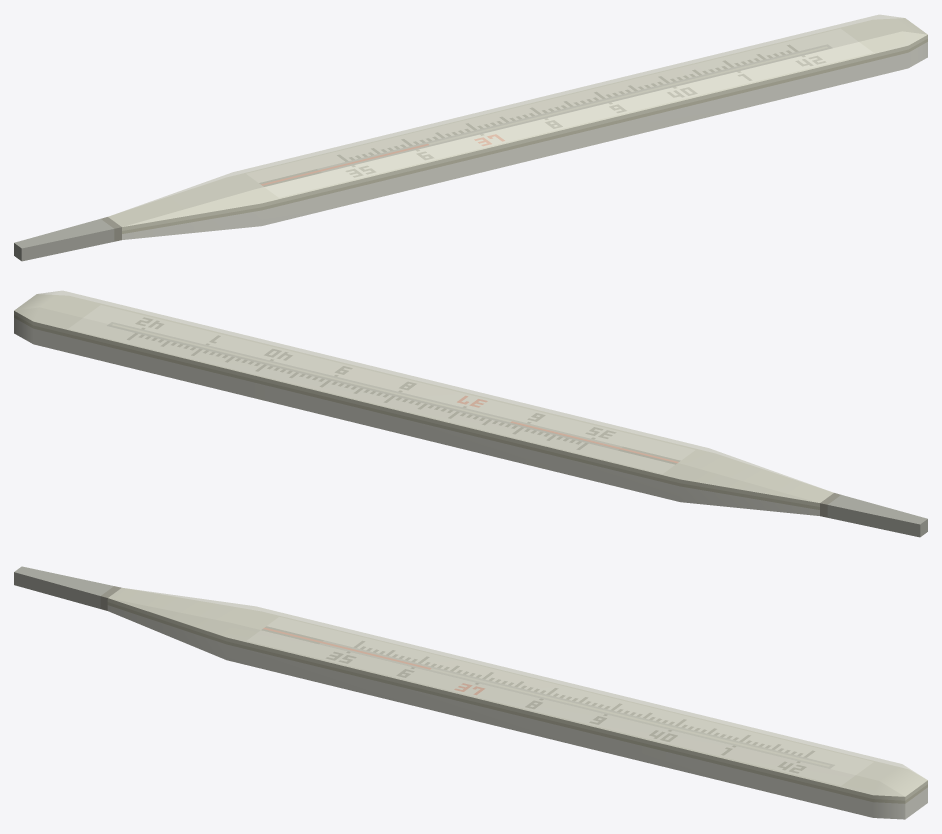
Rendered from 0366_Thermometer.glb.
3 renders of one model, top to bottom at view 1: azimuth 30°, elevation 25°; view 2: azimuth 150°, elevation 25°; view 3: azimuth 330°, elevation 25°, orthographic.
Visible parts, largest first — view 1: part_0; view 2: part_0; view 3: part_0.
Part boxes in pixels (x1,y1,x2,y2): part_0: (14,14,927,261); part_0: (14,290,927,537); part_0: (14,566,927,819).
Bounding box in the file's own units: 0.139 × 0.0048 × 0.0095.
1 material, 1 textured.
